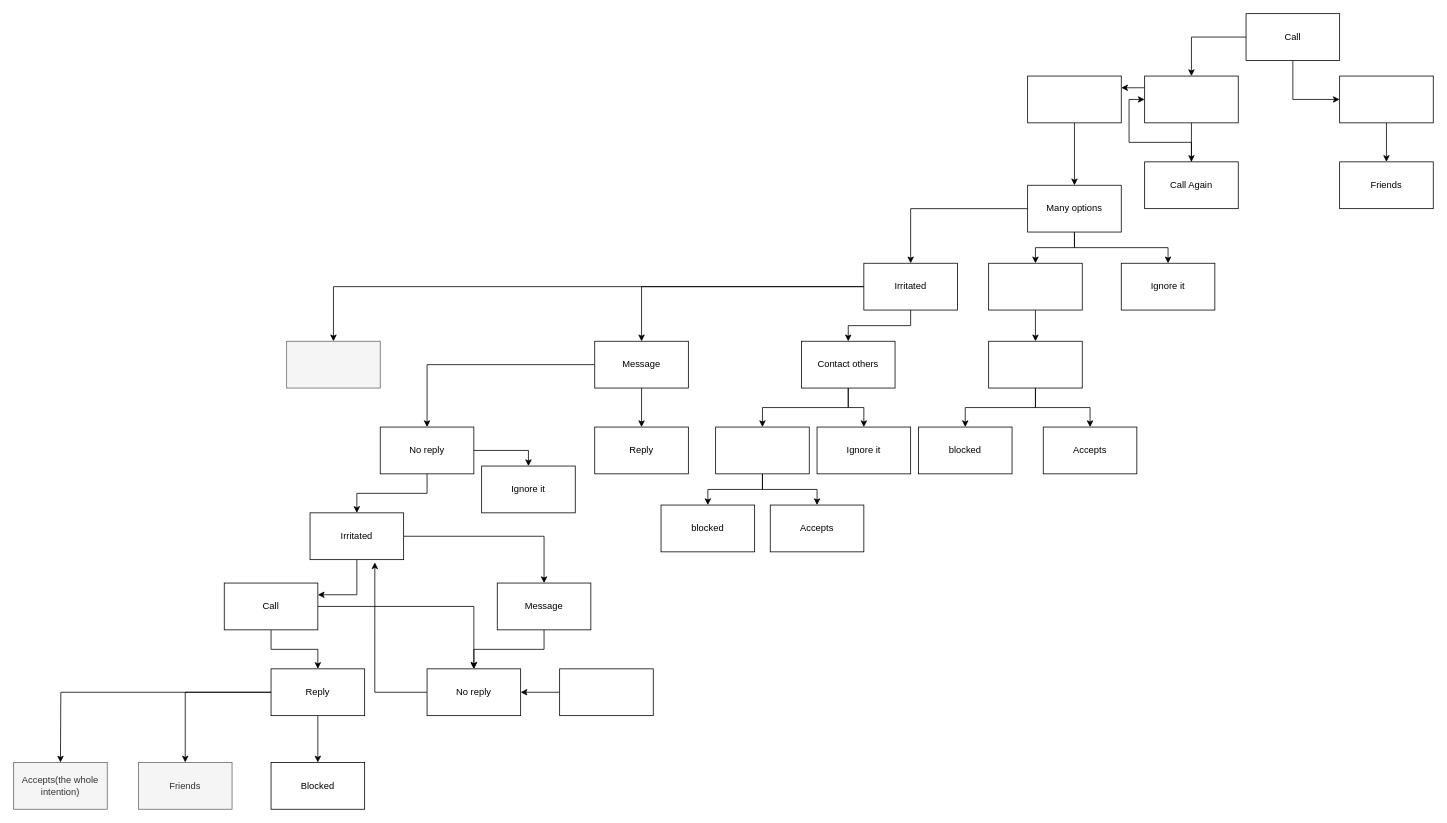
This 1447x823 diagram has some shape labels left out. The shapes that lost their labels are listed below. From the top down, each one's centre as x and y in pixels, then its label:
At [1074,99]: "If repeated".
At [1191,99]: "Not pick up".
At [1386,99]: "Pick up".
At [1035,286]: "Hormones kick in".
At [333,364]: "Visit (Probably not)".
At [1035,364]: "propose".
At [762,450]: "Propose her".
At [606,692]: "If repeated many times, blocked".
